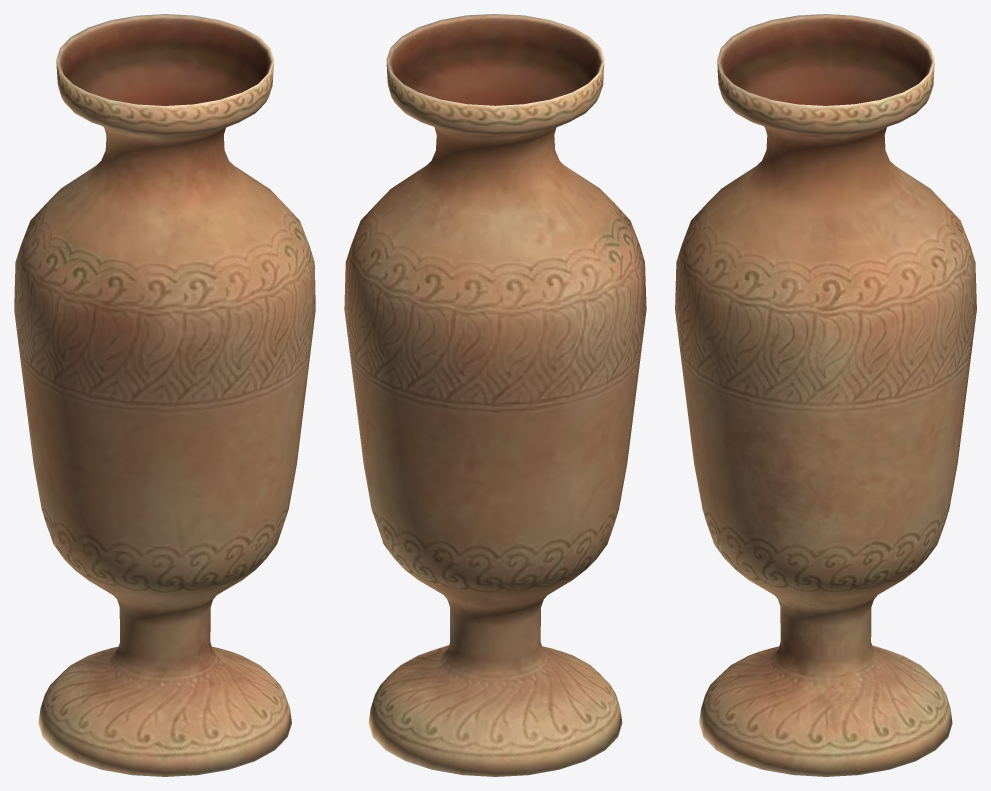
File: brass_vase_03.glb
3 renders of one model, left to right at view 1: azimuth 30°, elevation 25°; view 2: azimuth 150°, elevation 25°; view 3: azimuth 270°, elevation 25°, orthographic.
Visible parts, largest first — view 1: brass_vase_03; view 2: brass_vase_03; view 3: brass_vase_03.
Part boxes in pixels (x1,y1,x2,y2): brass_vase_03: (14,14,315,776); brass_vase_03: (344,14,646,776); brass_vase_03: (675,14,976,776).
Bounding box in the file's own units: 0.0825 × 0.2 × 0.0825.
1 material, 1 textured.
